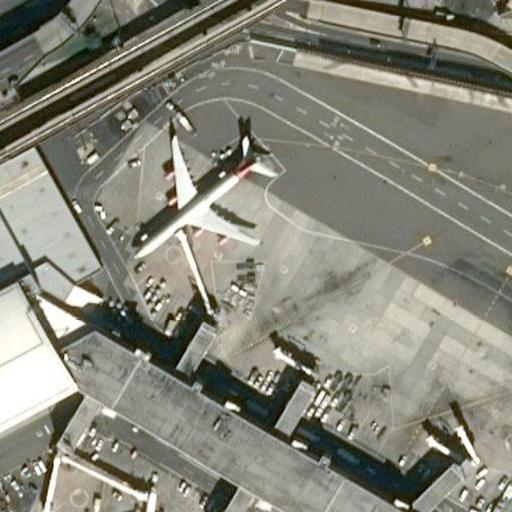Aircraft: (130, 123, 281, 259), (109, 485, 183, 512)
